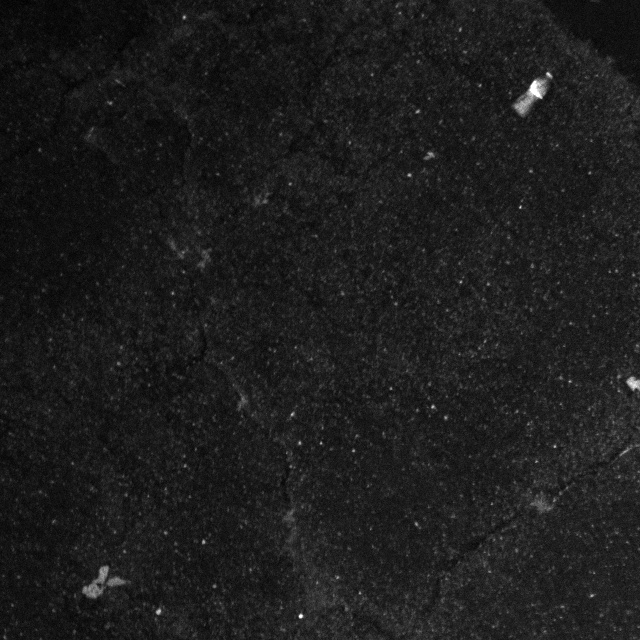bottle: (511, 69, 559, 119)
